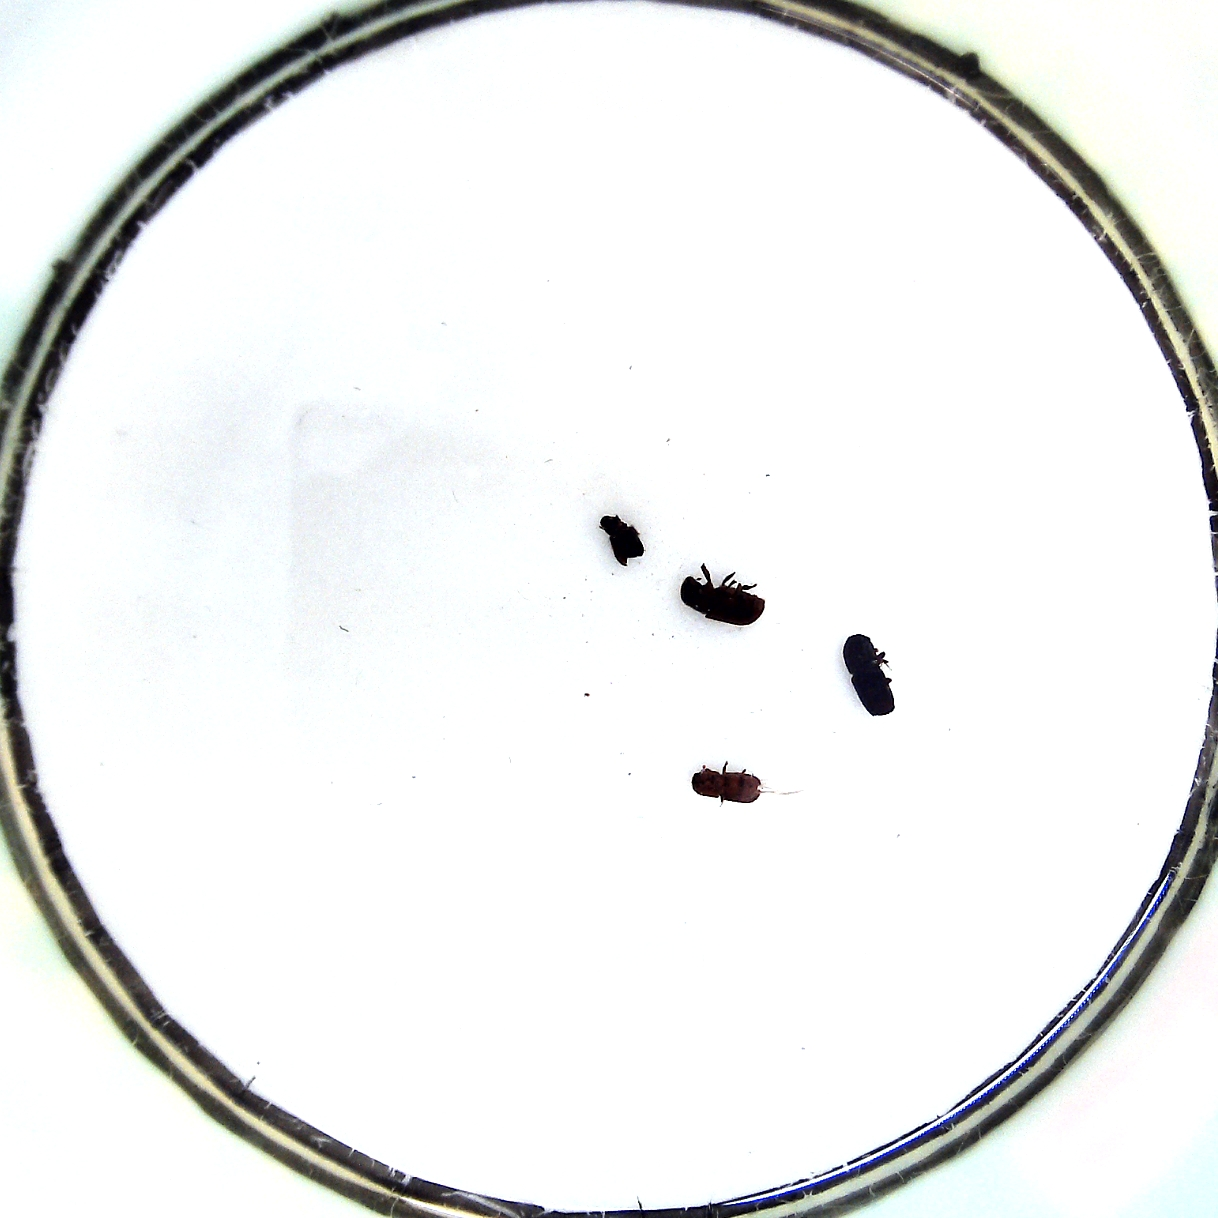Linnaeus: (839, 629, 899, 721)
acuminatus: (689, 760, 776, 806)
armandi: (675, 561, 771, 627)
coleoptera: (591, 507, 648, 565)
